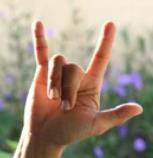back: (26, 18, 145, 143)
